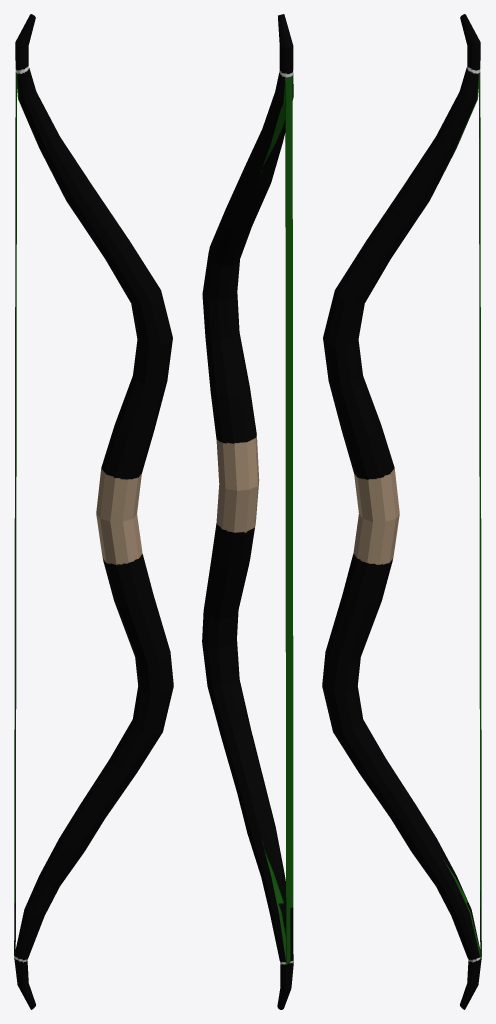
The model's file is Bow.fbx.
3 views of the same model, side by side, from view 1: azimuth 90°, elevation 25°; view 2: azimuth 210°, elevation 25°; view 3: azimuth 270°, elevation 25° (orthographic).
Visible parts, largest first — view 1: Arco; view 2: Arco; view 3: Arco.
Boxes of the visible parts, x1,y1,x2,y2 form: Arco: [14, 14, 173, 1009]; Arco: [202, 14, 293, 1009]; Arco: [322, 14, 481, 1009].
Bounding box in the file's own units: 8.53 × 239 × 34.73.
